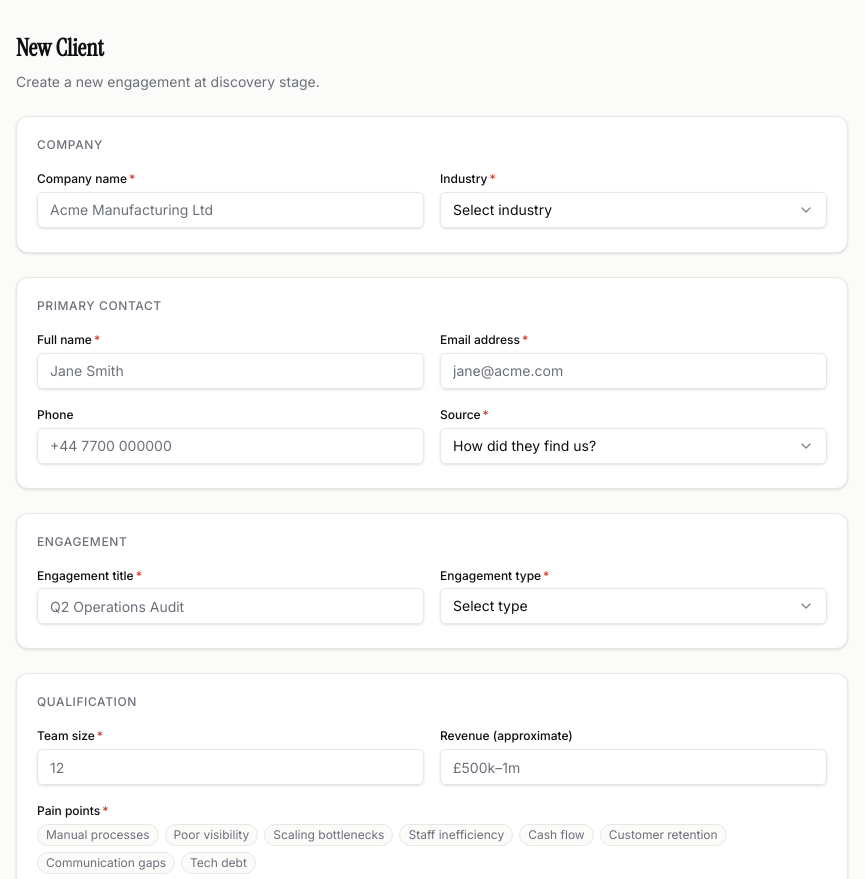
Test: NewClientPage › shows error when email is invalid
In the field with placeholder "Acme Manufacturing Ltd": (230, 210) x1=37 y1=192 x2=424 y2=228, type "Widgets Co"
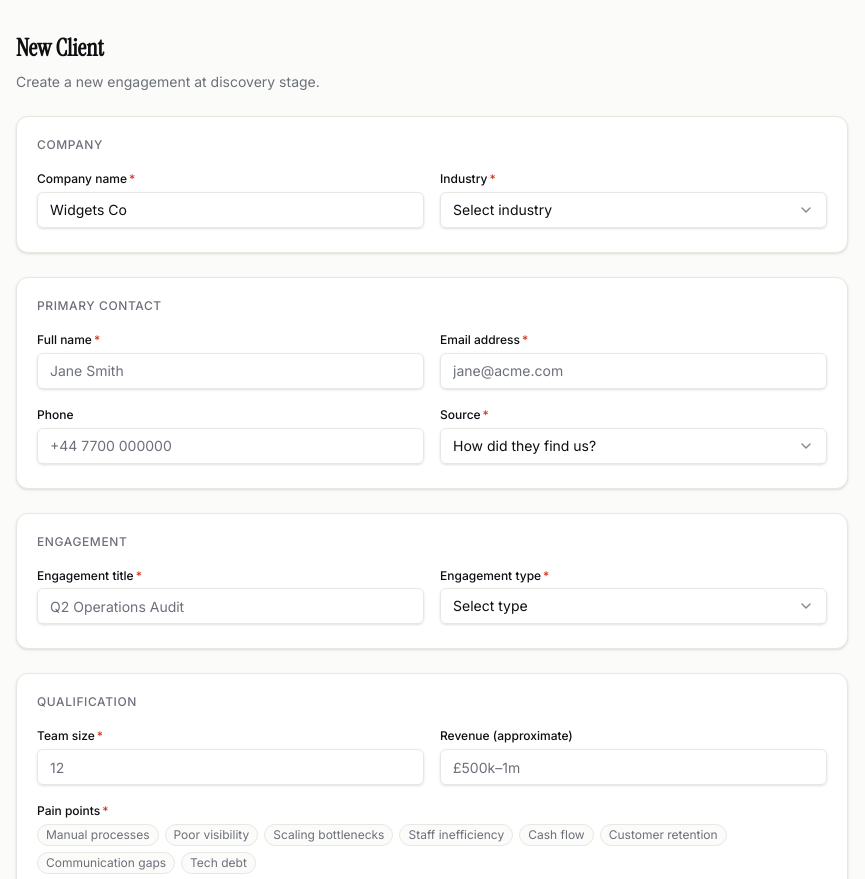
In the field with placeholder "Jane Smith": (230, 371) x1=37 y1=353 x2=424 y2=389, type "Bob Jones"
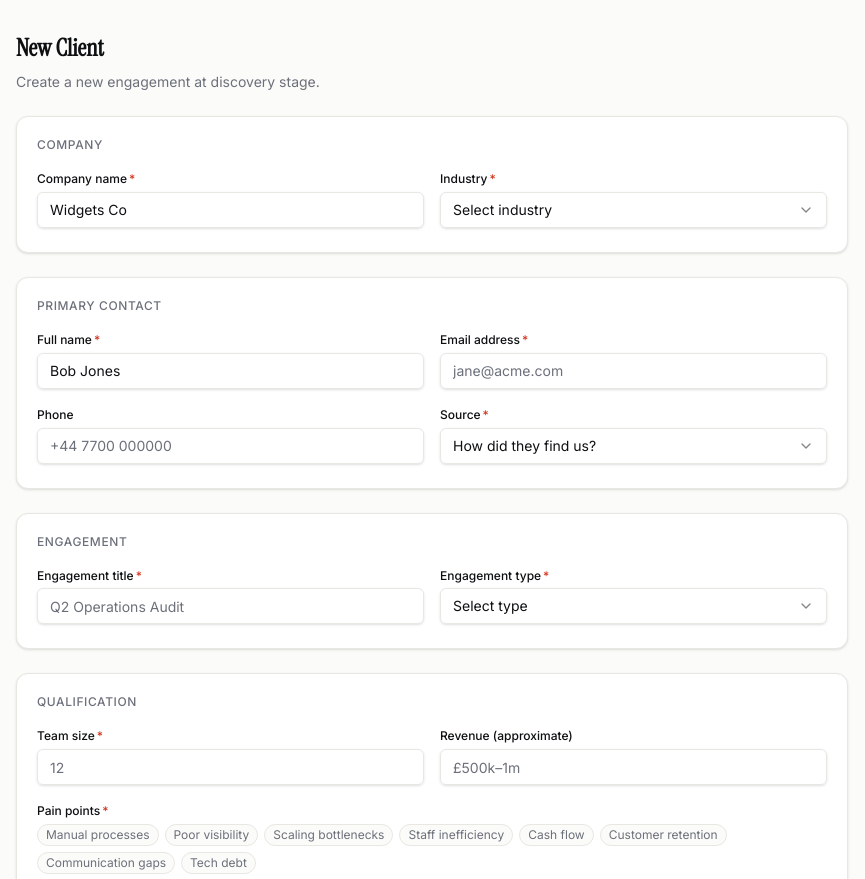
In the field with placeholder "jane@acme.com": (634, 371) x1=440 y1=353 x2=827 y2=389, type "not-an-email"
(page scrolled)
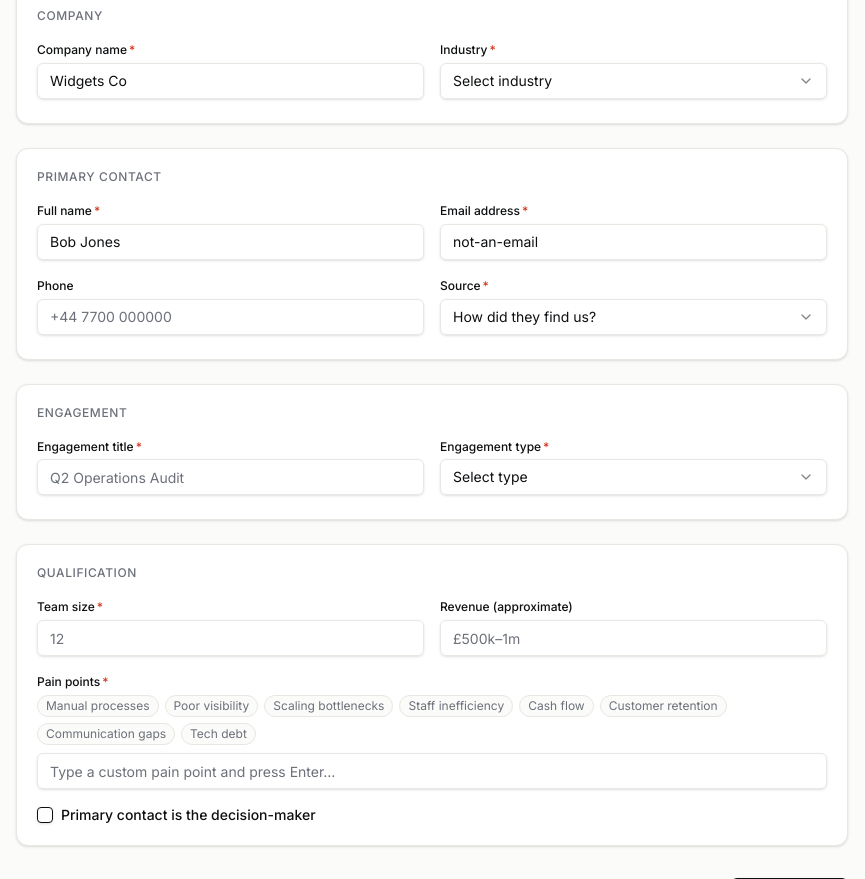
Submit the form
(page scrolled)
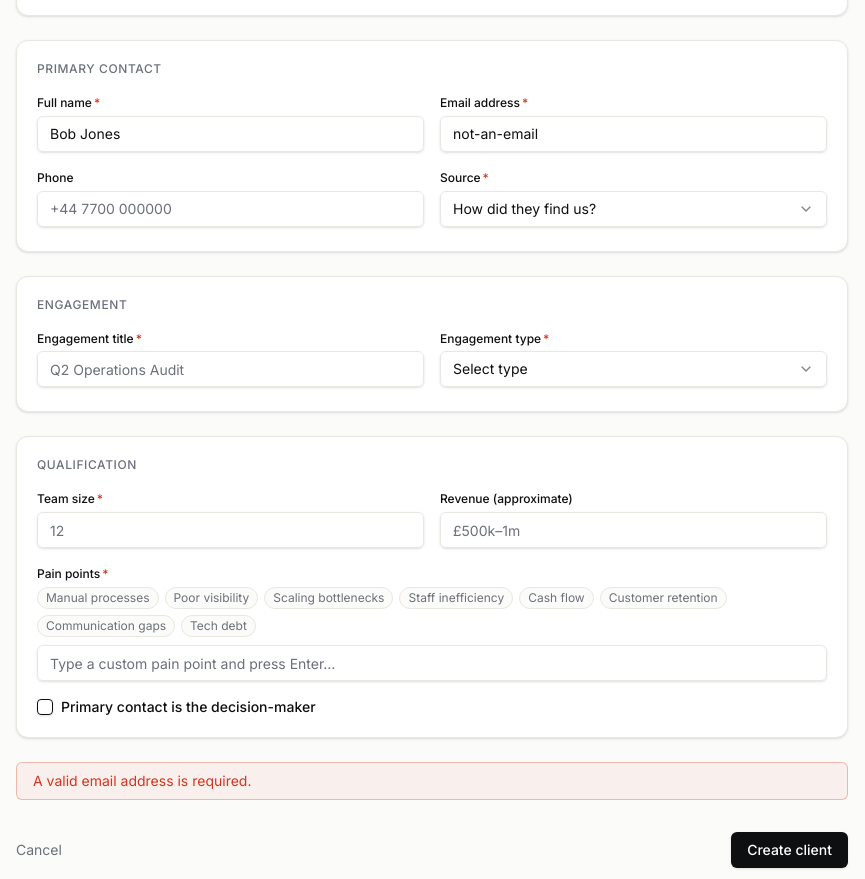
Expected: the text "A valid email address is required." is shown, x1=16 y1=762 x2=848 y2=800
